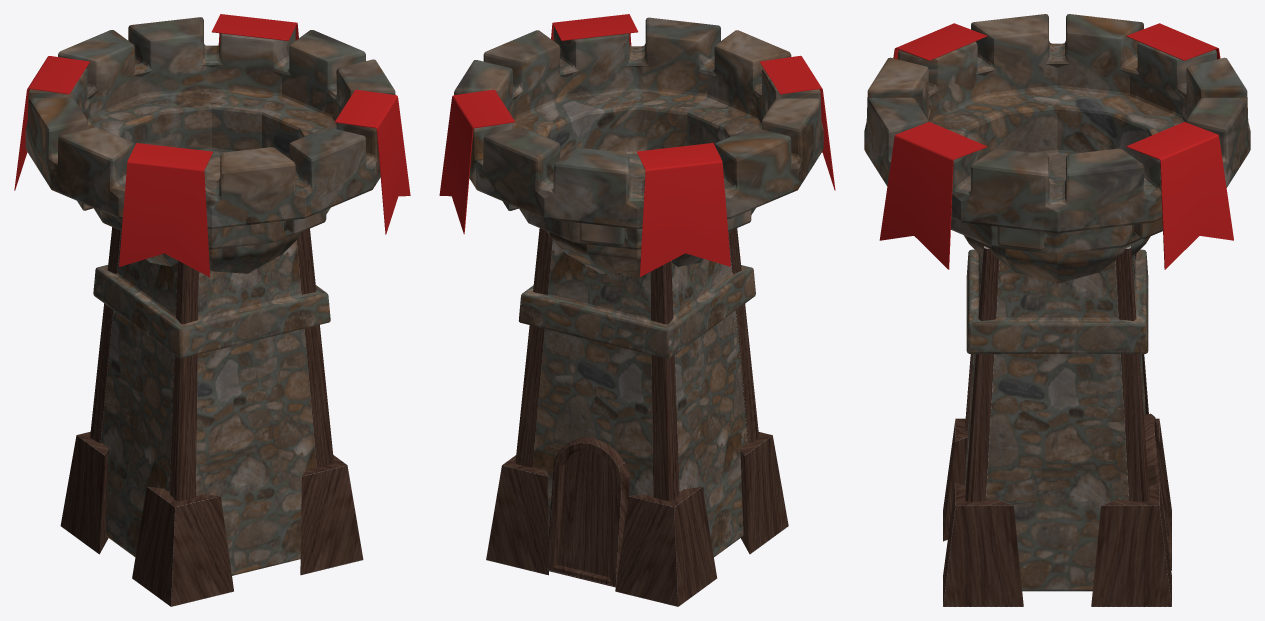
File: tower 1.fbx
3 views of the same model, side by side, from view 1: azimuth 30°, elevation 25°; view 2: azimuth 150°, elevation 25°; view 3: azimuth 270°, elevation 25° (orthographic). The views are drawn at different scales.
Parts seen in each view (by area): view 1: SOPRA, TORRE, SOSTEGNO, BANDIERA, ASSI; view 2: SOPRA, TORRE, SOSTEGNO, BANDIERA, ASSI, PORTA; view 3: SOPRA, TORRE, BANDIERA, SOSTEGNO, ASSI, PORTA.
Part boxes in pixels (<box>): SOPRA: <box>25,17,395,273</box>; TORRE: <box>93,231,330,575</box>; SOSTEGNO: <box>60,431,363,606</box>; BANDIERA: <box>14,14,410,277</box>; ASSI: <box>90,227,333,501</box>; SOPRA: <box>454,17,823,273</box>; TORRE: <box>518,240,755,556</box>; SOSTEGNO: <box>486,432,788,606</box>; BANDIERA: <box>439,14,835,276</box>; ASSI: <box>515,228,759,501</box>; PORTA: <box>547,437,630,587</box>; SOPRA: <box>864,14,1250,283</box>; TORRE: <box>964,249,1148,591</box>; BANDIERA: <box>879,23,1233,269</box>; SOSTEGNO: <box>943,418,1171,606</box>; ASSI: <box>965,246,1149,501</box>; PORTA: <box>1144,413,1171,570</box>.
Size of the model in its own units: 806 by 1077 by 806.
